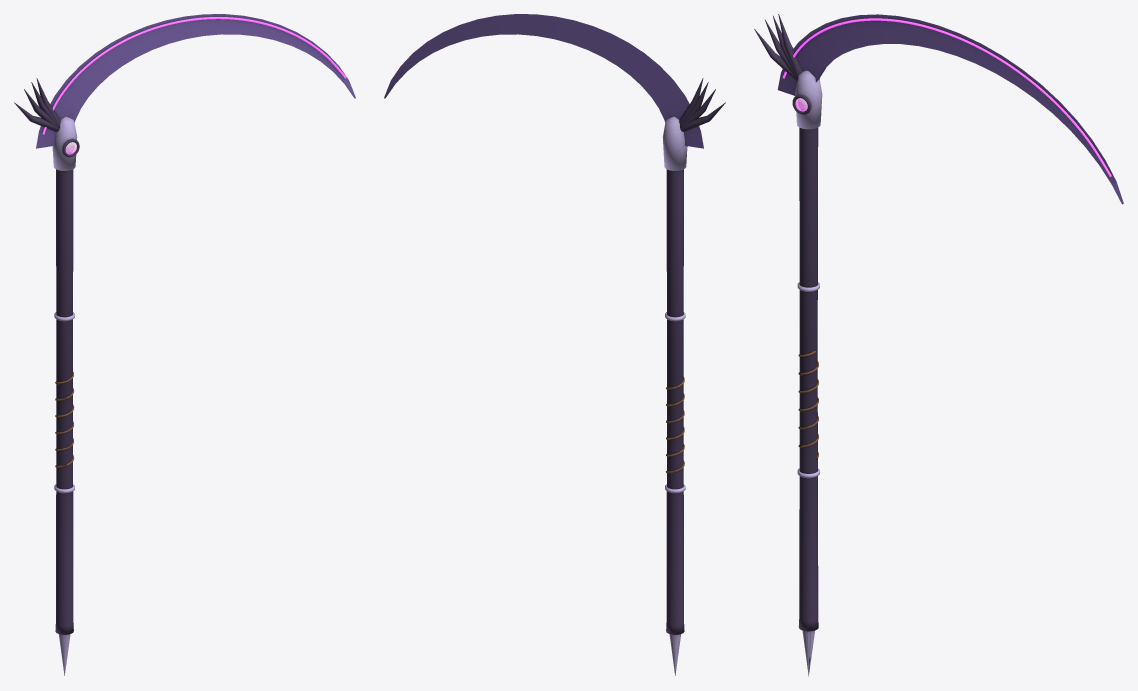
File: arma_lend_foice_vazio.glb
3 views of the same model, side by side, from view 1: azimuth 30°, elevation 25°; view 2: azimuth 150°, elevation 25°; view 3: azimuth 330°, elevation 25° (orthographic). The views are drawn at different scales.
Parts seen in each view (by area): view 1: arma_lend_foice_vazio, gume; view 2: arma_lend_foice_vazio; view 3: arma_lend_foice_vazio, gume.
Boxes of the visible parts, box(x1,y1,x2,y2) form: arma_lend_foice_vazio: box(14, 14, 355, 675); gume: box(42, 17, 346, 134); arma_lend_foice_vazio: box(384, 14, 725, 675); arma_lend_foice_vazio: box(754, 14, 1123, 676); gume: box(782, 18, 1111, 176).
Bounding box in the file's own units: 1.25 × 2.2 × 0.0873.
Materials: 3 (1 with a texture image).
